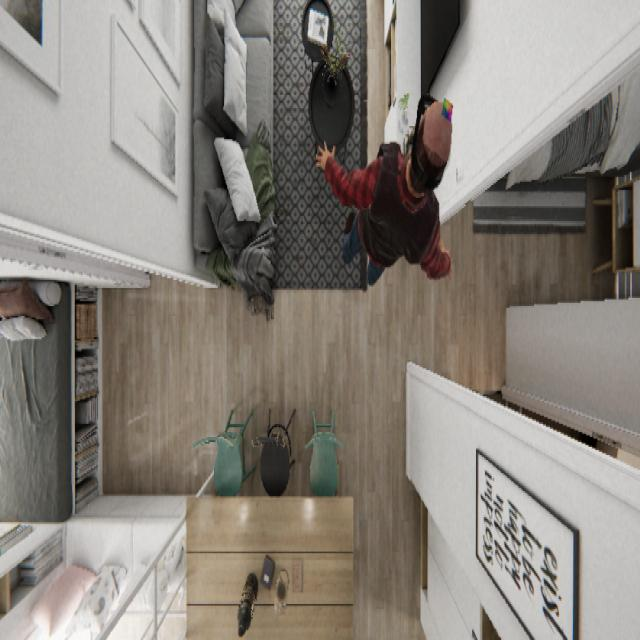Colored-Marker: (440, 93, 454, 123)
Human: (314, 90, 454, 286)
